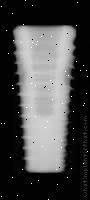AGS Medikal: (13, 25, 76, 174)
